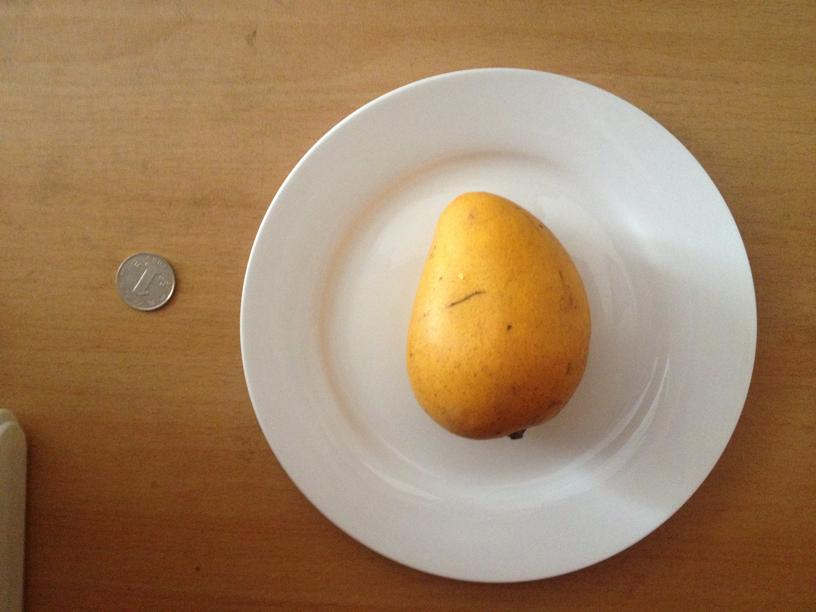coin: (113, 252, 177, 312)
mango: (404, 192, 589, 441)
